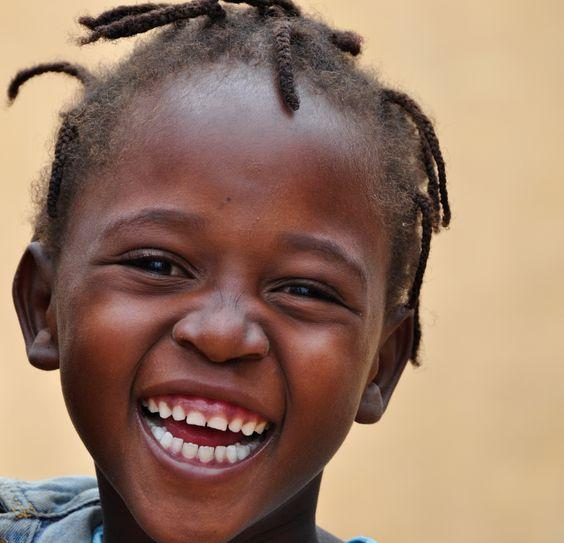Healthy: (0, 31, 386, 543)
